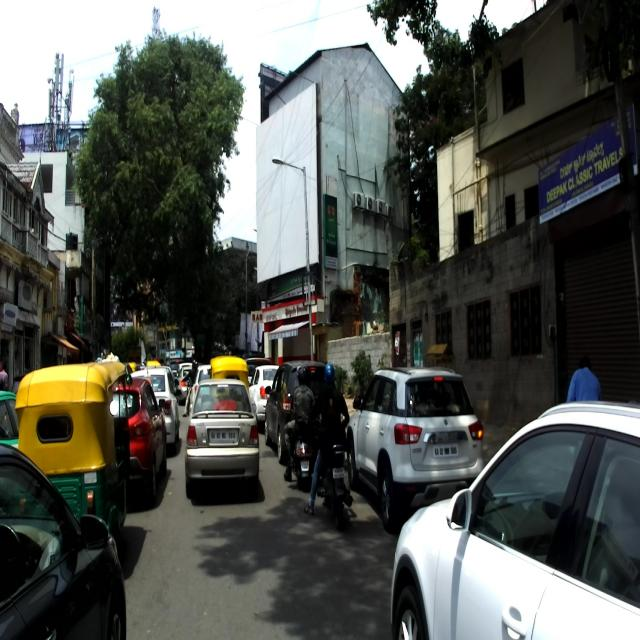autorickshaw: (15, 360, 132, 562)
car: (389, 400, 640, 640), (0, 443, 126, 640), (346, 366, 484, 532), (185, 378, 259, 499)
motorcycle: (306, 417, 352, 529)
scooter: (287, 391, 319, 491)
